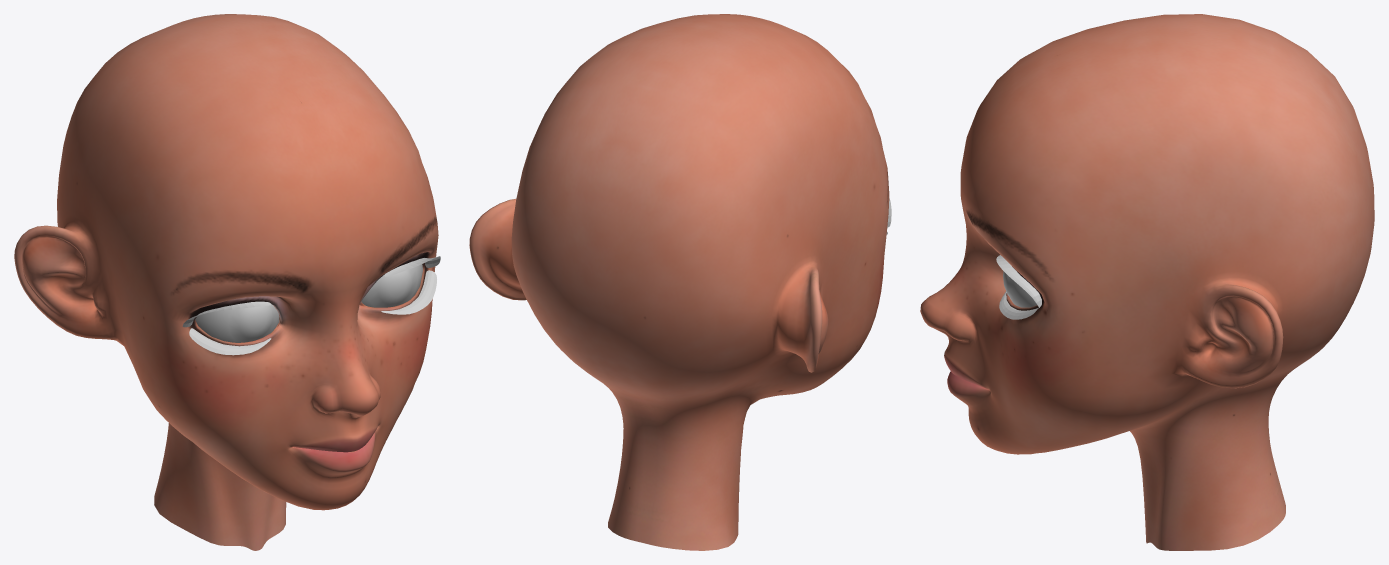
The model's file is Girl_Textured_Med_001.obj.
The picture shows the model from 3 angles, left to right: view 1: azimuth 30°, elevation 25°; view 2: azimuth 150°, elevation 25°; view 3: azimuth 270°, elevation 25°; orthographic projection. The views are drawn at different scales.
Parts seen in each view (by area): view 1: Girl_Face_Circle, Cornea_Sphere.001, EyeLashes_Circle.002; view 2: Girl_Face_Circle; view 3: Girl_Face_Circle, EyeLashes_Circle.002, Cornea_Sphere.001.
Boxes of the visible parts, <box> form: Girl_Face_Circle: <box>14,14,438,550</box>; Cornea_Sphere.001: <box>195,264,422,342</box>; EyeLashes_Circle.002: <box>182,256,440,355</box>; Girl_Face_Circle: <box>469,14,889,550</box>; Girl_Face_Circle: <box>920,14,1374,550</box>; EyeLashes_Circle.002: <box>996,255,1041,319</box>; Cornea_Sphere.001: <box>1003,271,1036,307</box>.
Bounding box in the file's own units: 2.4 × 3.25 × 2.62.
Materials: 4 (2 with a texture image).
